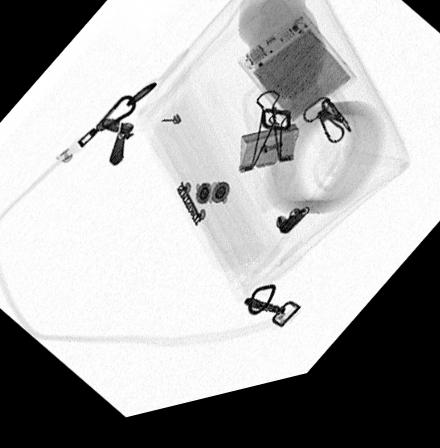Powerbank: (236, 24, 357, 146)
